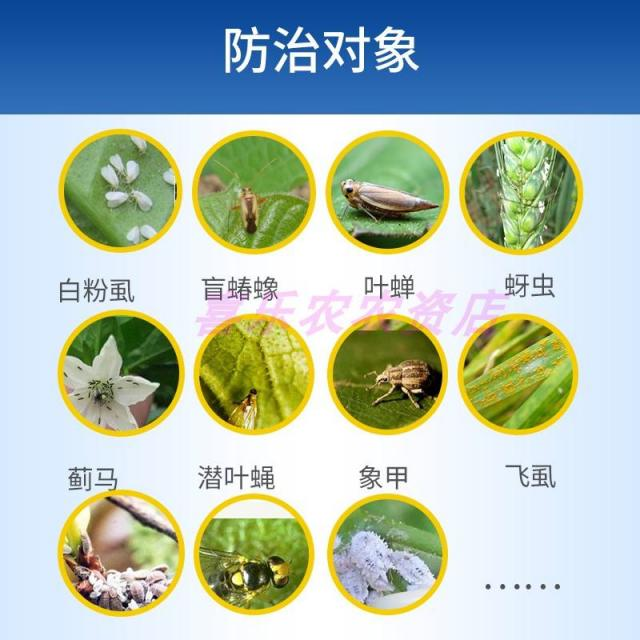Yechan: (337, 174, 442, 227)
